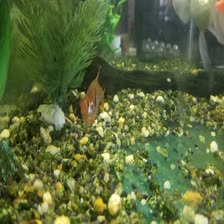Transparente: (76, 66, 116, 126)
